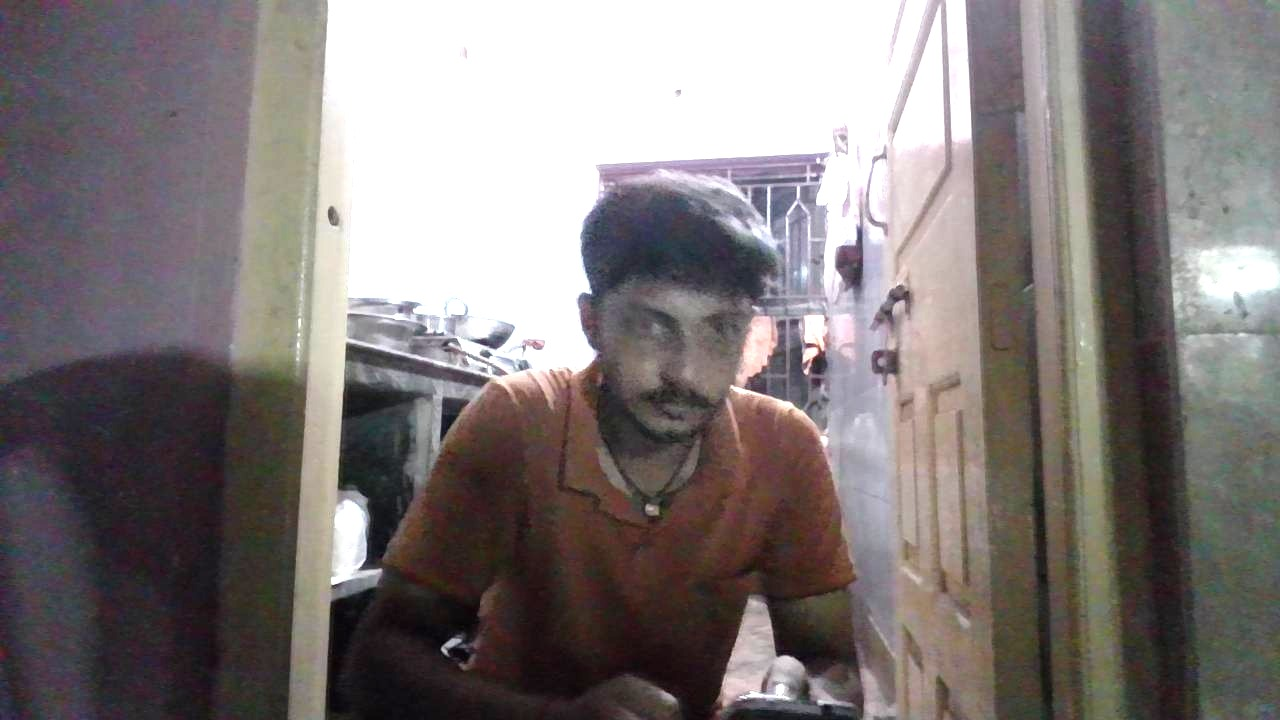red_box: (665, 406, 854, 584), (581, 449, 640, 522)
